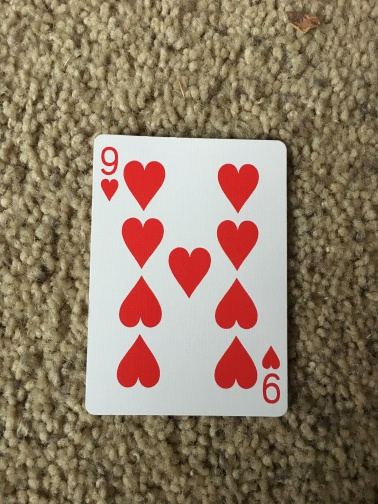nine: (85, 133, 290, 419)
